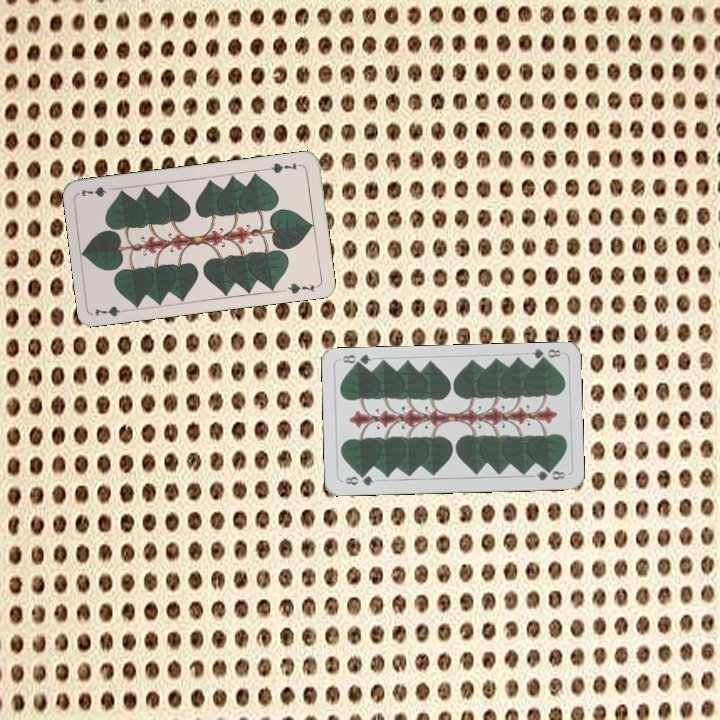G7: (264, 158, 304, 176), (91, 302, 132, 319)
G8: (528, 345, 563, 365), (341, 471, 376, 489)
